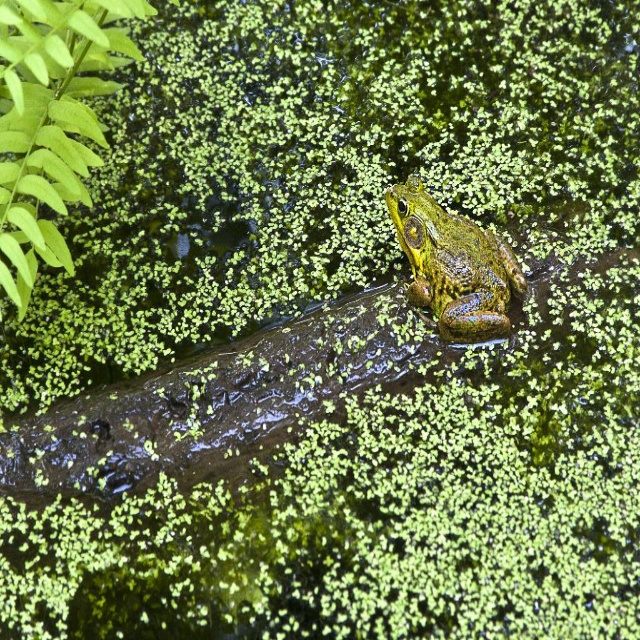Frog: (388, 175, 529, 345)
